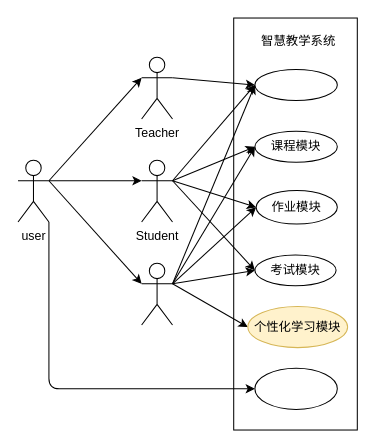
The diagram is 376 pixels wide and 448 high, and some of its shapes have lost their labels. Each missing label, with the centre of its shape:
admin: point (157, 293)
注册: point (295, 388)
系统管理模块: point (295, 84)
